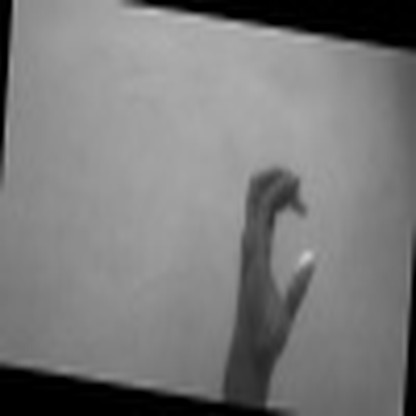c: (230, 152, 329, 368)
